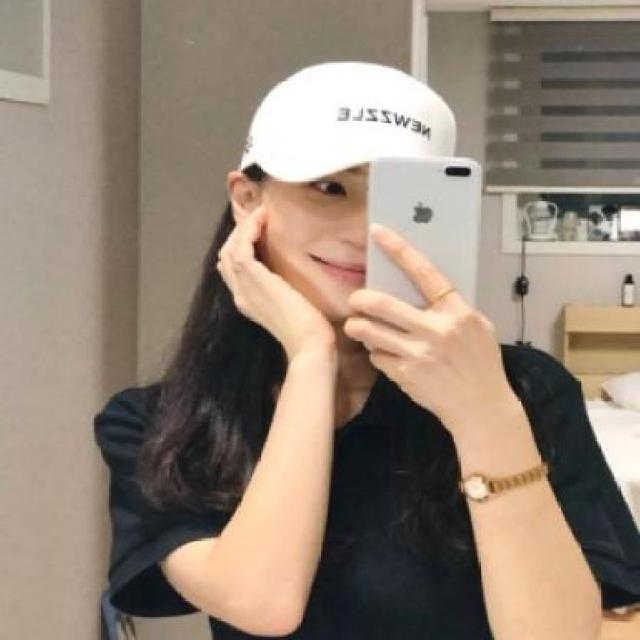hat: (235, 62, 459, 186)
